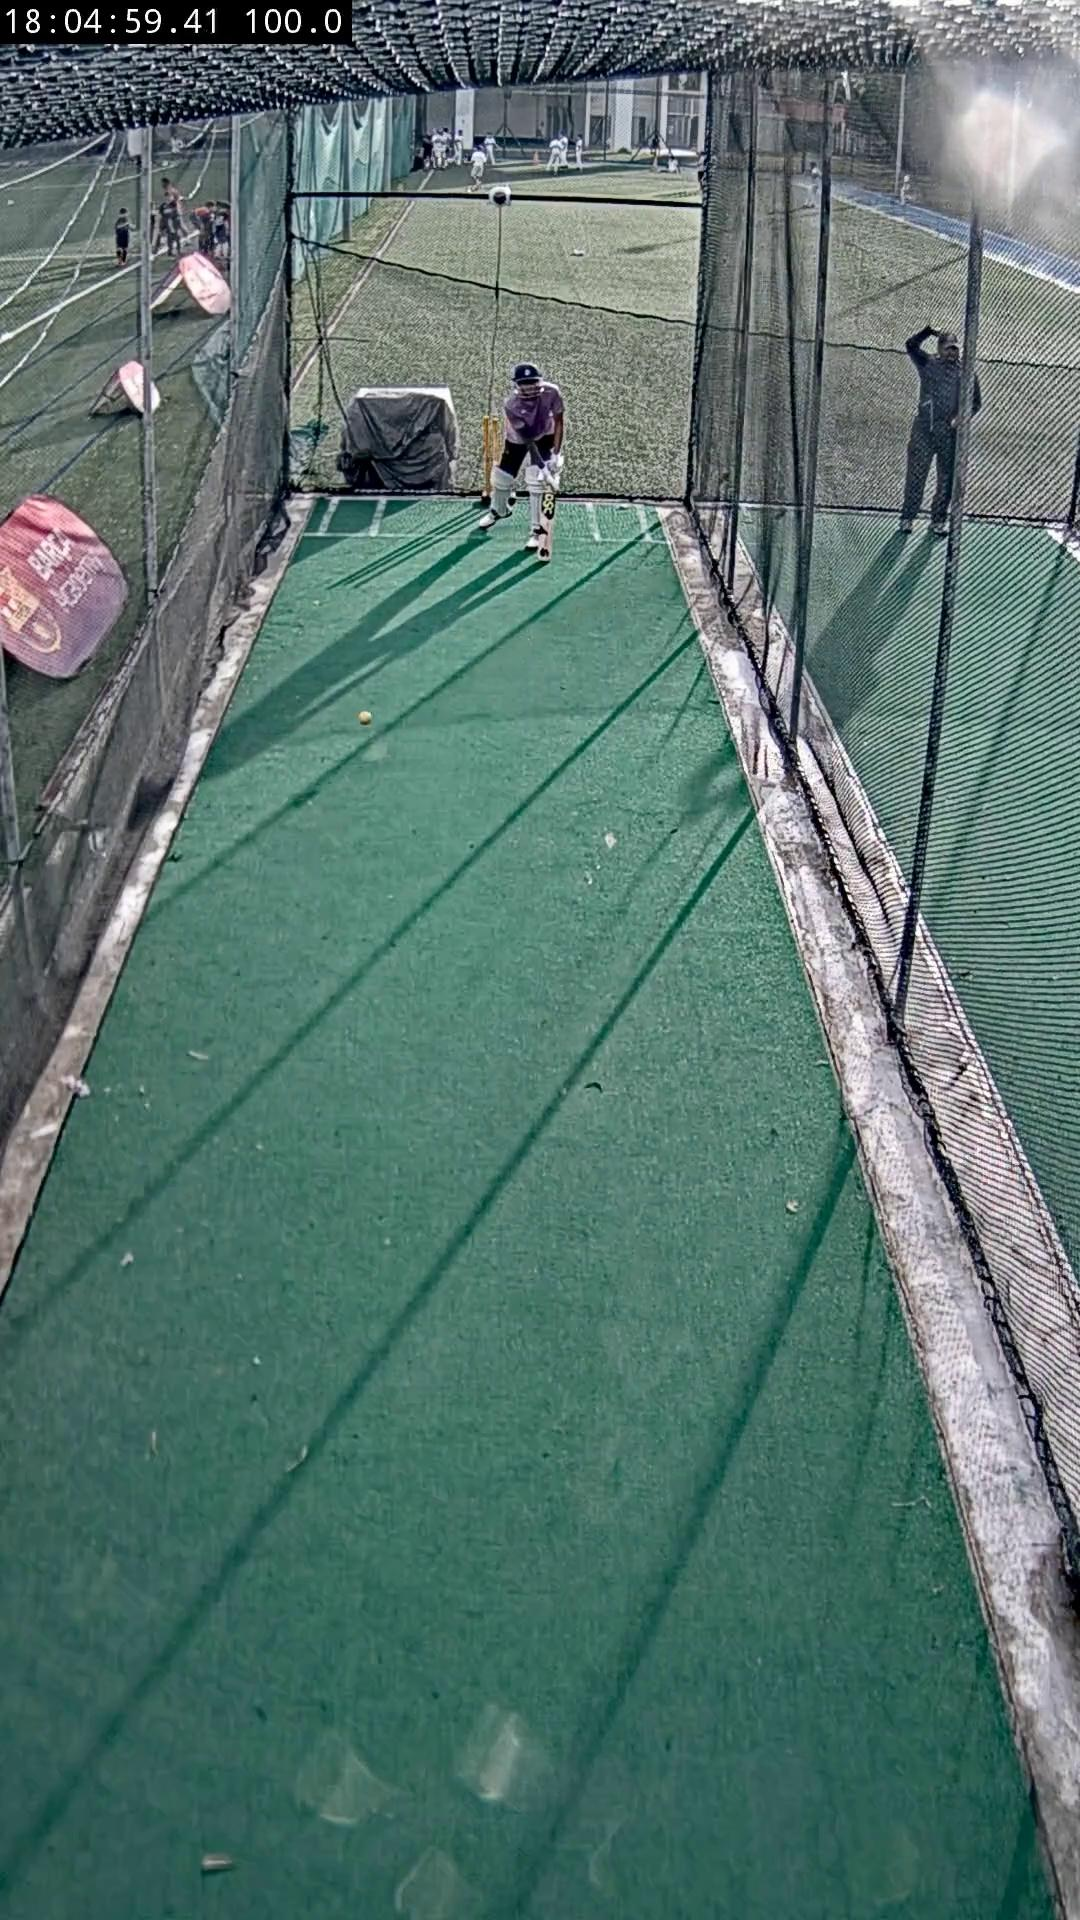ball: (356, 708, 372, 724)
bat: (537, 488, 555, 563)
gloves: (543, 450, 563, 488)
helmet: (510, 364, 541, 384)
pads: (492, 465, 517, 517), (527, 465, 543, 533)
stumps: (484, 417, 498, 485)
